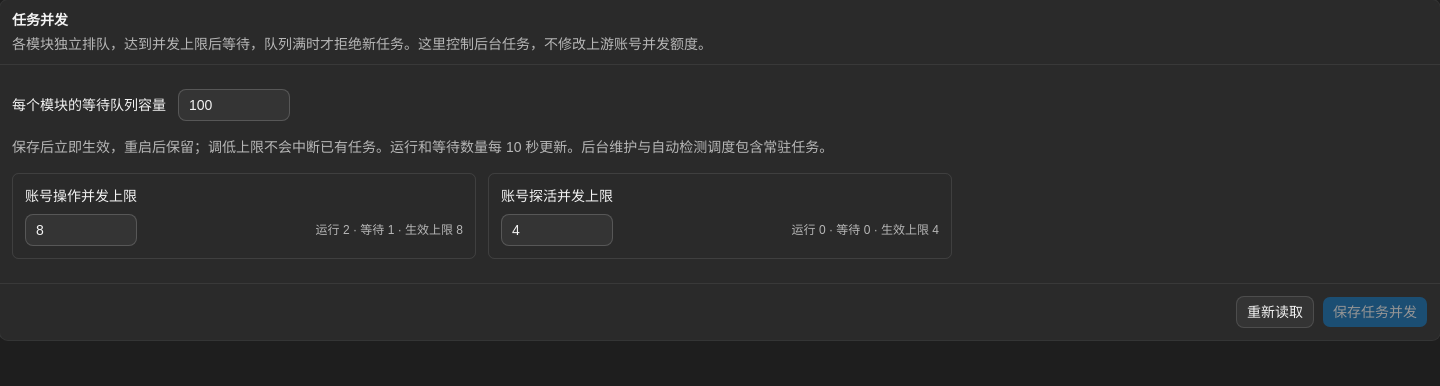
Test: 输入空值时展示字段错误并阻止保存
Clear the number field labelled "账号操作并发上限" at (81, 230), box [25,214,137,246]
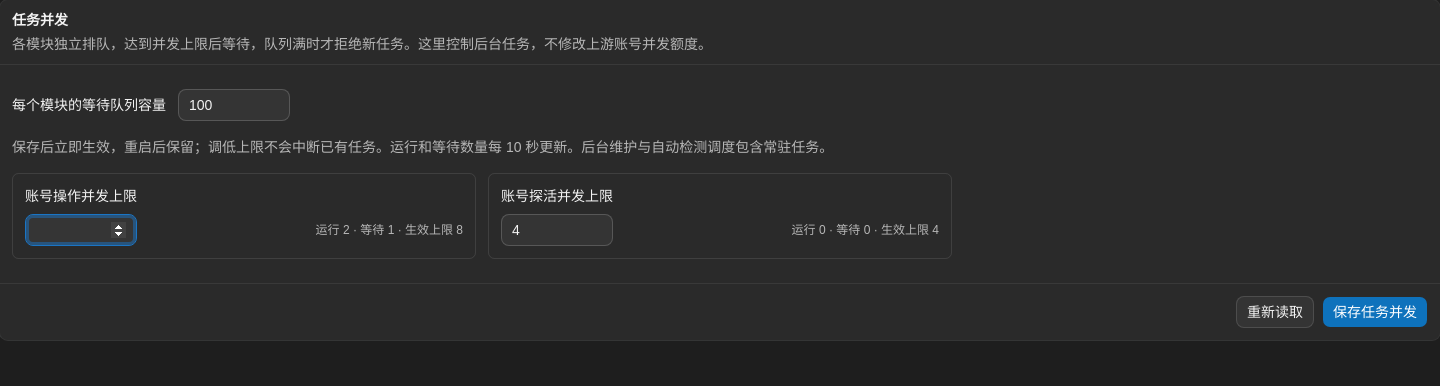
Click the button "保存任务并发".
click(1375, 312)  # box [1322,296,1428,328]
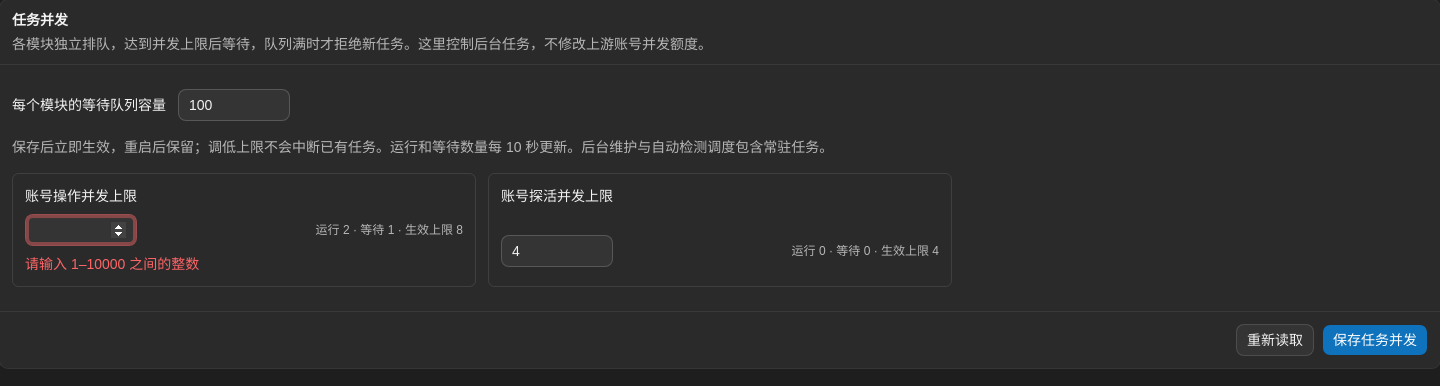
Result: the message reads "请输入 1–10000 之间的整数" at [25,256,199,272]
